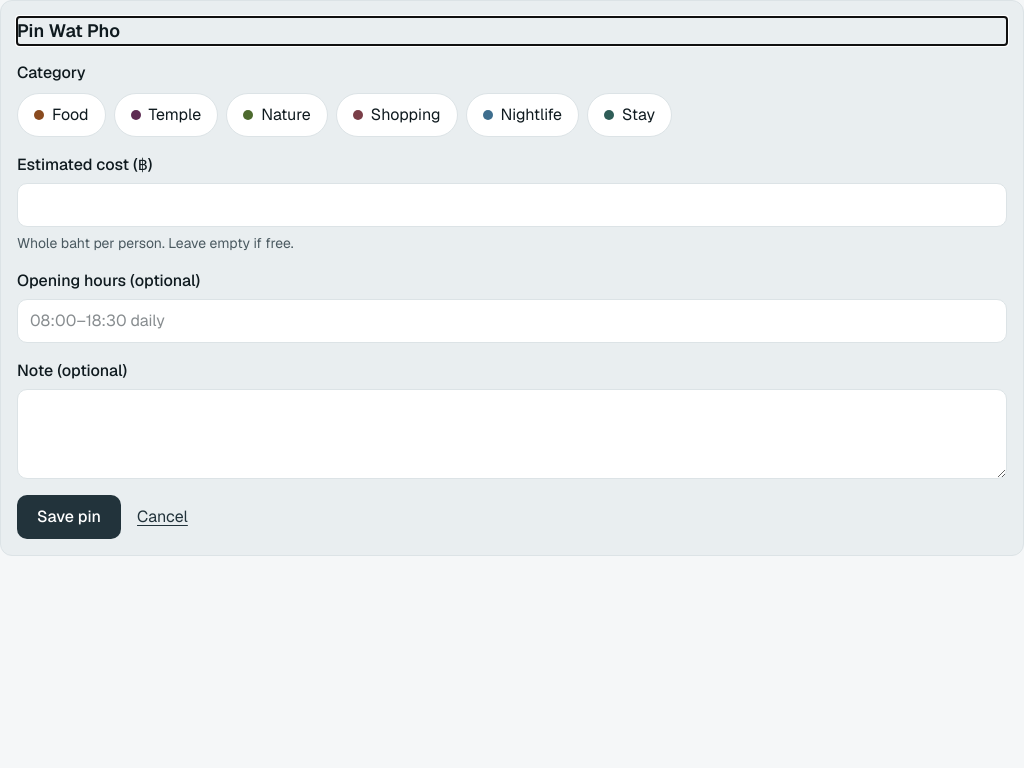
Scenario: PinForm › shows errors next to the fields
Click the button "Save pin": x=69, y=517 [17, 495, 121, 539]
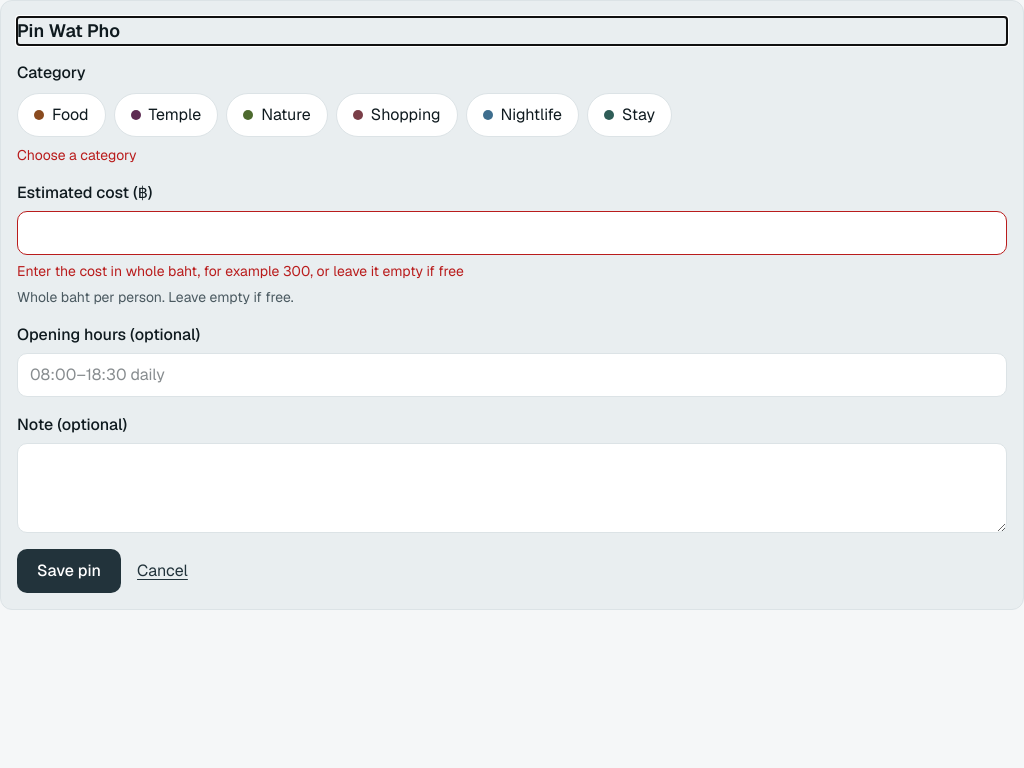
Expected: the text "Choose a category" is shown, [17, 146, 136, 164]
